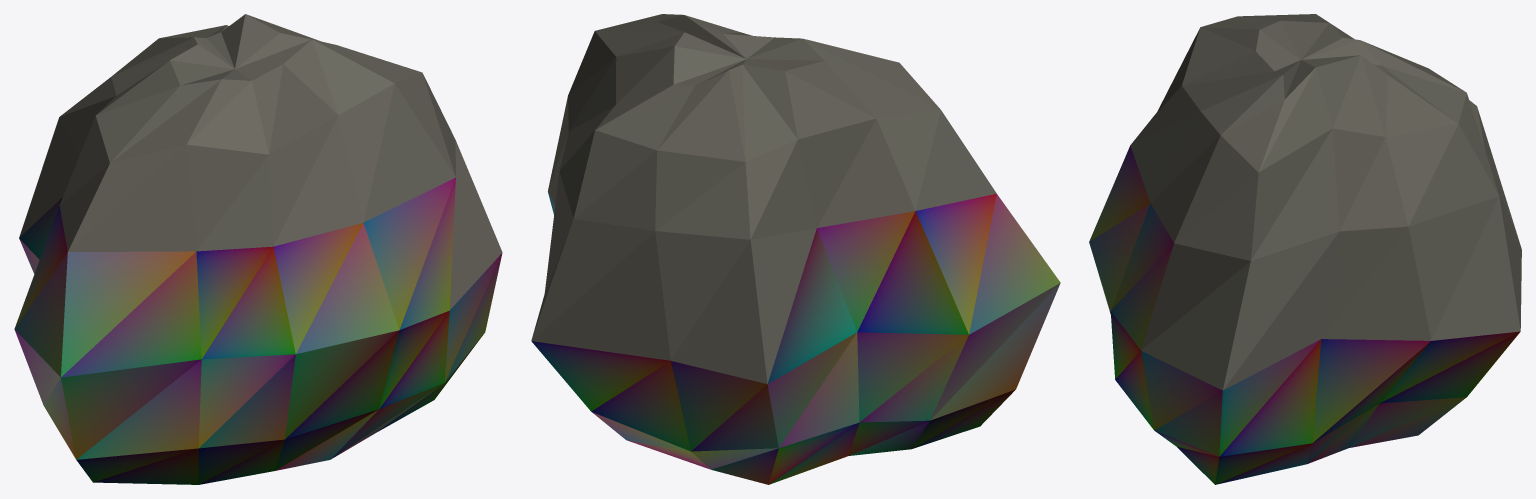
The model's file is rock_01.glb.
3 renders of one model, left to right at view 1: azimuth 30°, elevation 25°; view 2: azimuth 150°, elevation 25°; view 3: azimuth 270°, elevation 25°, orthographic. The views are drawn at different scales.
Parts seen in each view (by area): view 1: rock_01; view 2: rock_01; view 3: rock_01.
Boxes of the visible parts, x1,y1,x2,y2 form: rock_01: [14, 14, 502, 484]; rock_01: [531, 14, 1060, 484]; rock_01: [1089, 14, 1521, 484].
Size of the model in its own units: 1.03 by 0.7601 by 0.8039.
